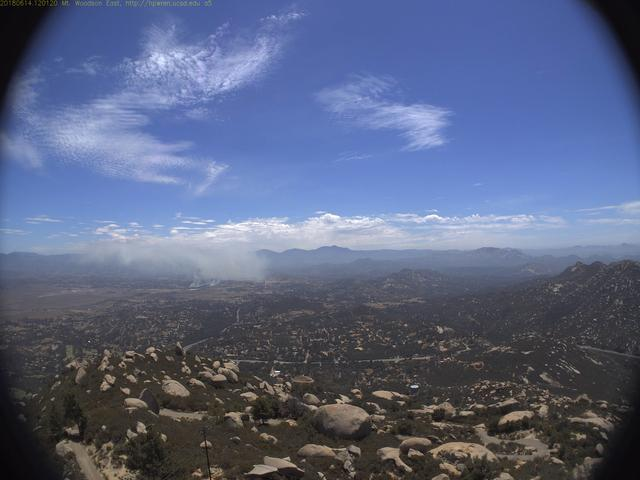smoke: (76, 227, 272, 289)
